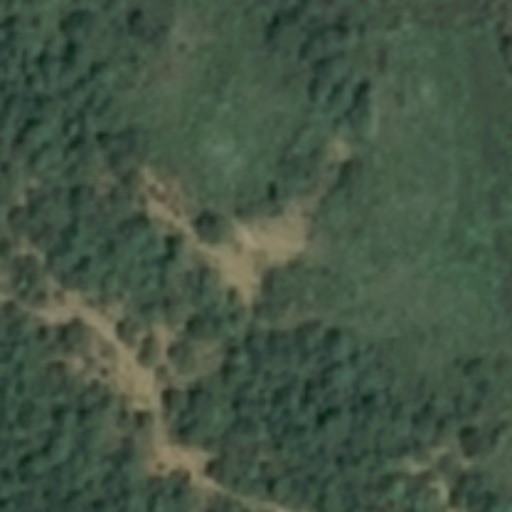landslide: (38, 289, 210, 484), (135, 164, 309, 297)
